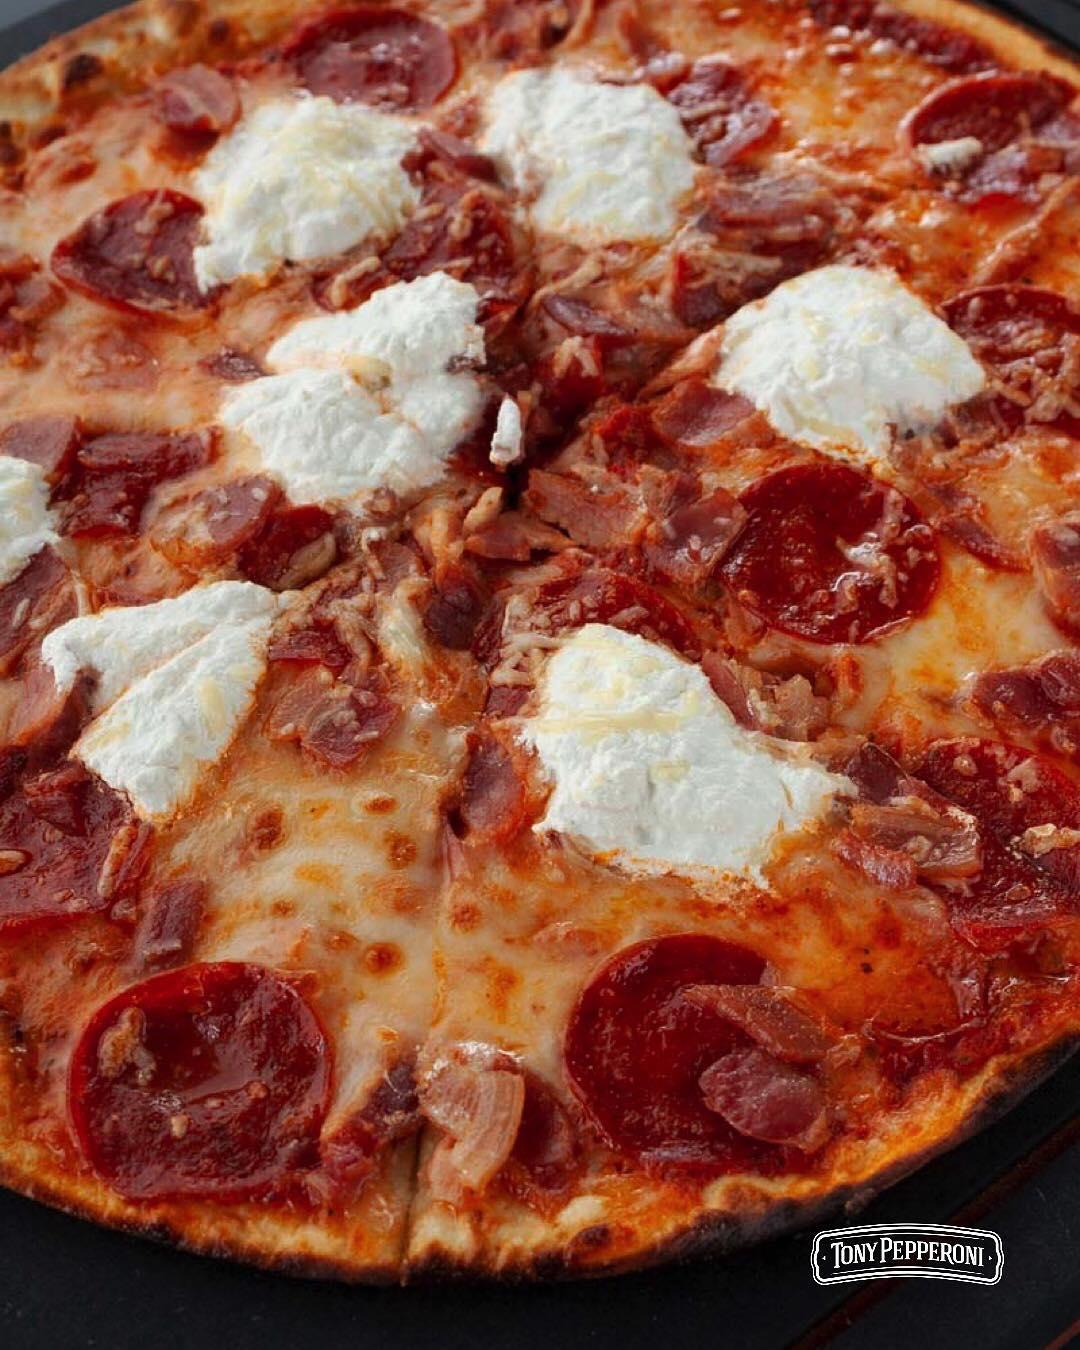Cheese: (549, 651, 795, 862), (85, 594, 294, 793), (724, 276, 962, 449), (251, 302, 460, 479), (204, 112, 396, 251), (512, 74, 681, 229), (0, 463, 46, 568)
Pepperoni: (75, 963, 326, 1191), (565, 940, 801, 1159), (733, 466, 938, 641), (898, 71, 1080, 208), (0, 750, 136, 926), (52, 187, 204, 322), (940, 283, 1080, 429), (294, 12, 455, 111)
Pizza: (0, 0, 1080, 1294)
